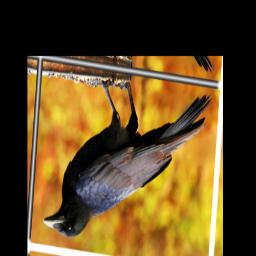Crow: (41, 69, 213, 256)
